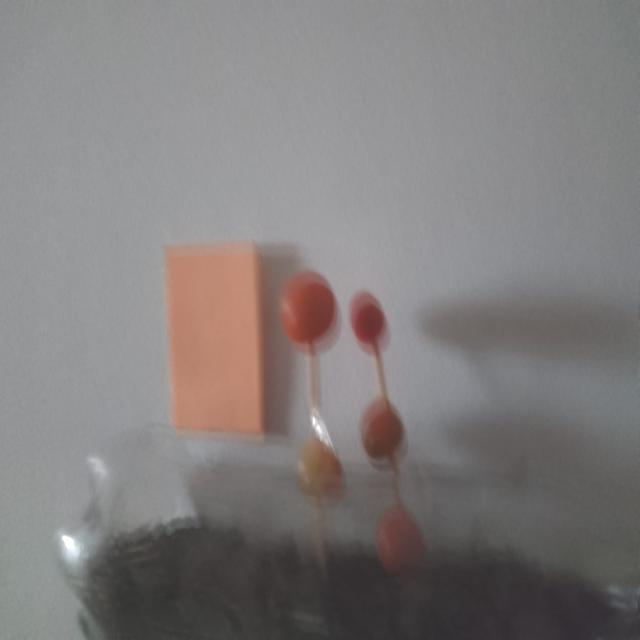card: (166, 243, 265, 436)
fruit_maturation: (297, 435, 343, 500)
fully_grown: (280, 271, 337, 345), (361, 397, 405, 463), (351, 293, 386, 344)
